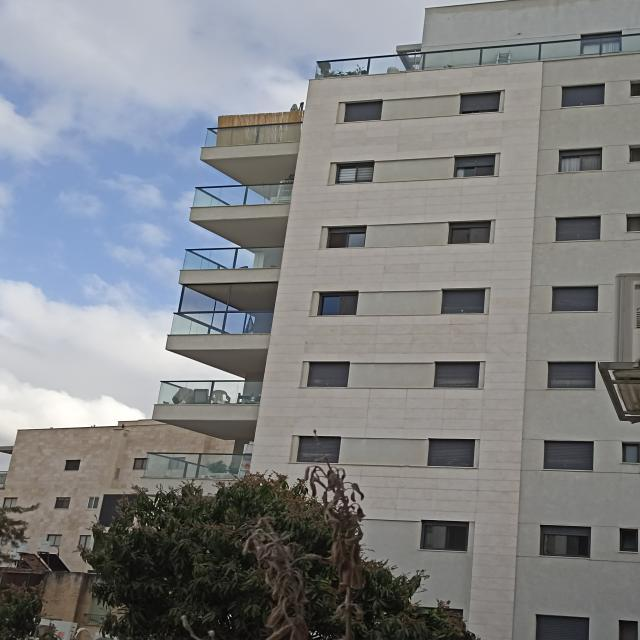Window: (414, 517, 474, 555), (534, 524, 595, 560), (536, 440, 596, 472), (426, 438, 479, 468), (431, 360, 483, 390), (574, 29, 627, 58), (547, 360, 598, 390), (553, 214, 604, 244), (548, 284, 602, 312), (556, 144, 606, 174), (448, 152, 500, 180), (443, 218, 495, 246), (536, 612, 588, 640), (295, 435, 342, 465), (436, 289, 488, 316), (558, 82, 608, 109), (302, 360, 350, 387), (323, 221, 366, 251), (456, 88, 505, 114), (332, 159, 377, 187), (338, 98, 386, 124), (316, 290, 360, 318), (613, 524, 640, 554), (618, 612, 640, 640), (620, 438, 640, 464), (74, 534, 95, 552), (623, 210, 640, 232), (166, 456, 190, 471), (624, 78, 640, 100), (41, 533, 66, 547), (625, 144, 640, 166), (63, 456, 81, 474), (132, 456, 152, 472), (51, 498, 76, 510), (0, 496, 20, 510), (84, 496, 101, 512), (112, 466, 124, 480)
